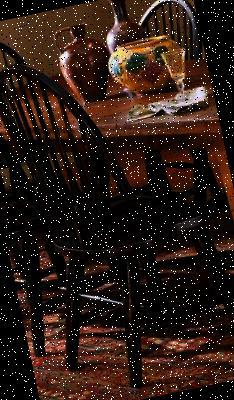Silla: (0, 29, 233, 399)
